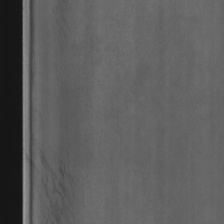water_spot: (39, 135, 76, 224)
